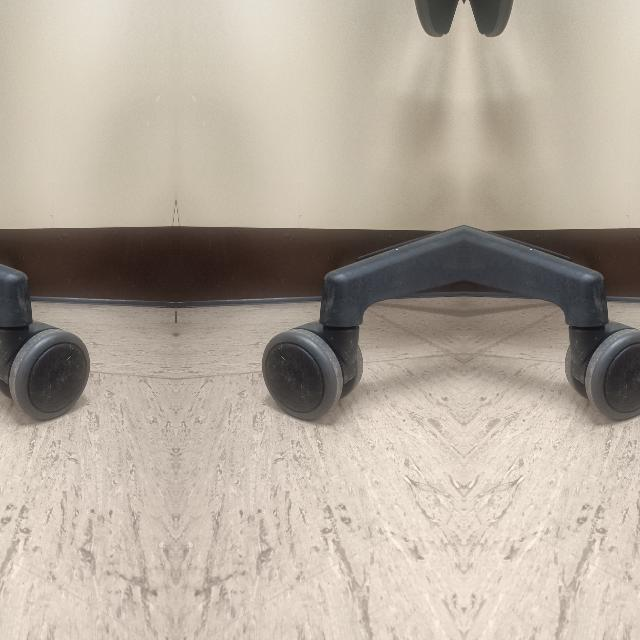obstacle: (261, 214, 464, 423), (463, 214, 640, 423), (0, 214, 89, 423)
